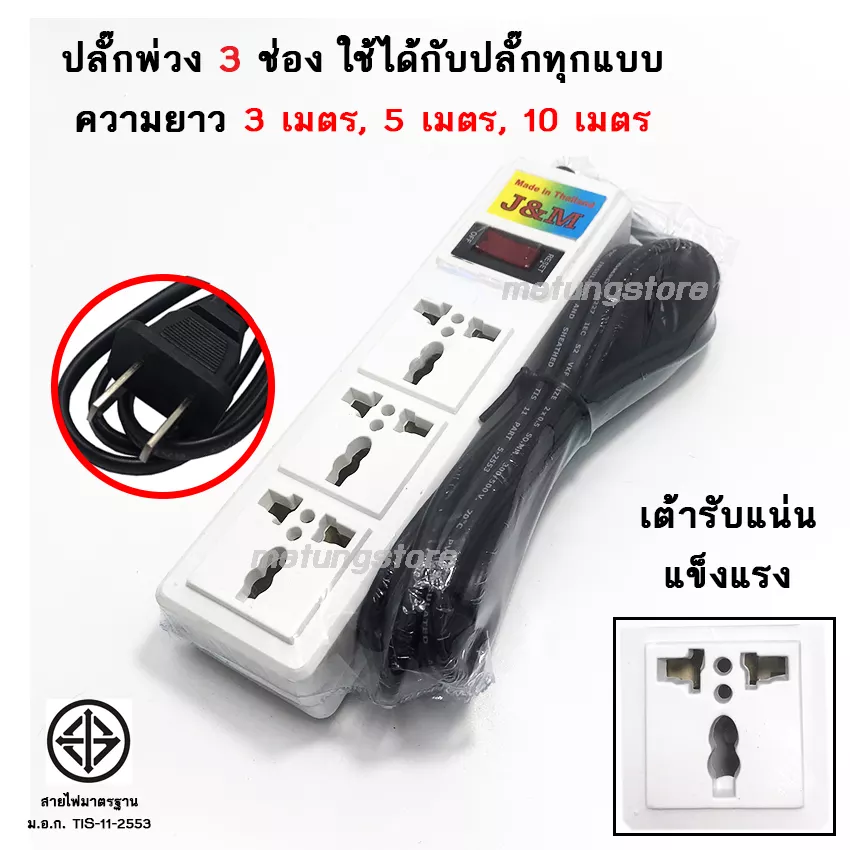Three_eye_plug: (140, 141, 726, 729), (626, 625, 814, 825)
